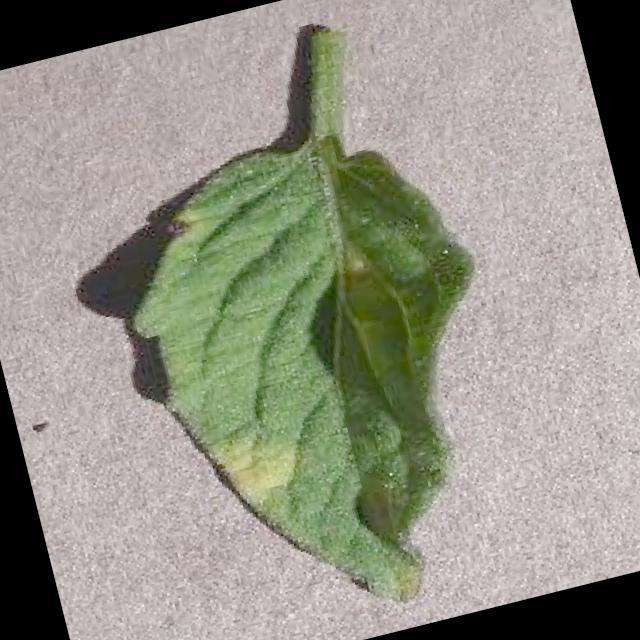Tomato mold leaf: (102, 108, 549, 640)
